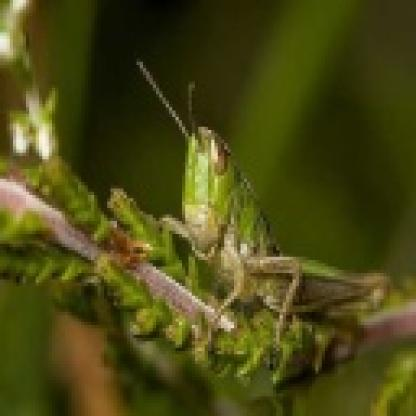grasshopper: (125, 59, 389, 363)
